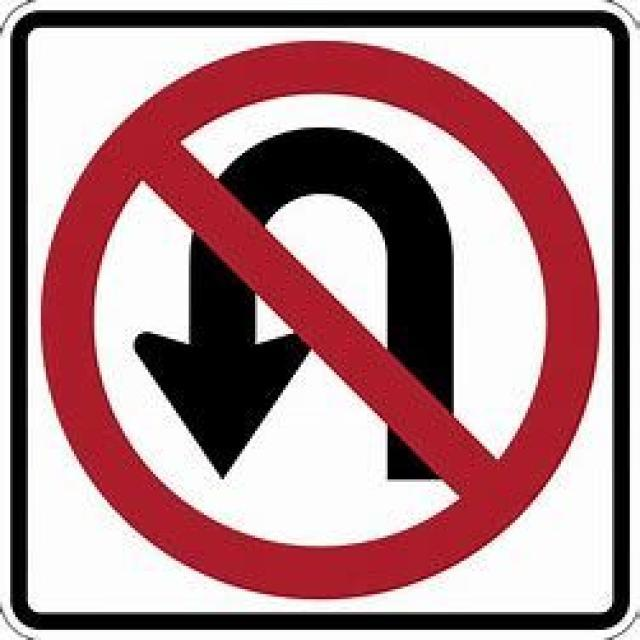u turn prohibited: (32, 39, 599, 605)
